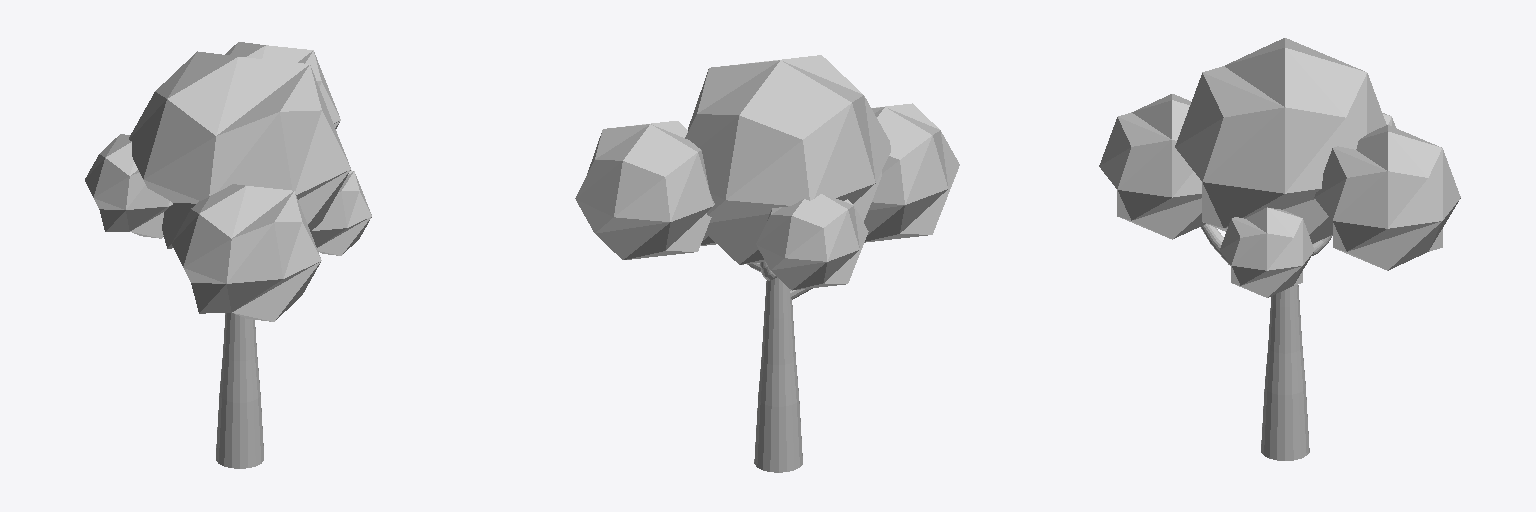
Rendered from arvore_lowpoly.obj.
3 views of the same model, side by side, from view 1: azimuth 30°, elevation 25°; view 2: azimuth 150°, elevation 25°; view 3: azimuth 270°, elevation 25° (orthographic).
Visible parts, largest first — view 1: Box009, Box010, Cylinder006, Box008, Box007, Box011; view 2: Box009, Box011, Box010, Box008, Cylinder006; view 3: Box009, Box011, Box010, Cylinder006, Box007.
Part boxes in pixels (x1,y1,x2,y2): Box009: (129, 51, 350, 248); Box010: (172, 184, 321, 321); Cylinder006: (216, 313, 263, 468); Box008: (85, 134, 172, 238); Box007: (311, 170, 371, 255); Box011: (225, 42, 340, 128); Box009: (685, 55, 890, 264); Box011: (575, 121, 714, 259); Box010: (864, 103, 959, 242); Box008: (756, 194, 868, 290); Cylinder006: (754, 277, 802, 472); Box009: (1175, 38, 1386, 243); Box011: (1314, 125, 1460, 270); Box010: (1099, 94, 1205, 239); Cylinder006: (1261, 285, 1309, 460); Box007: (1220, 207, 1314, 297).
Bounding box in the file's own units: 4.01 × 6.05 × 4.93.